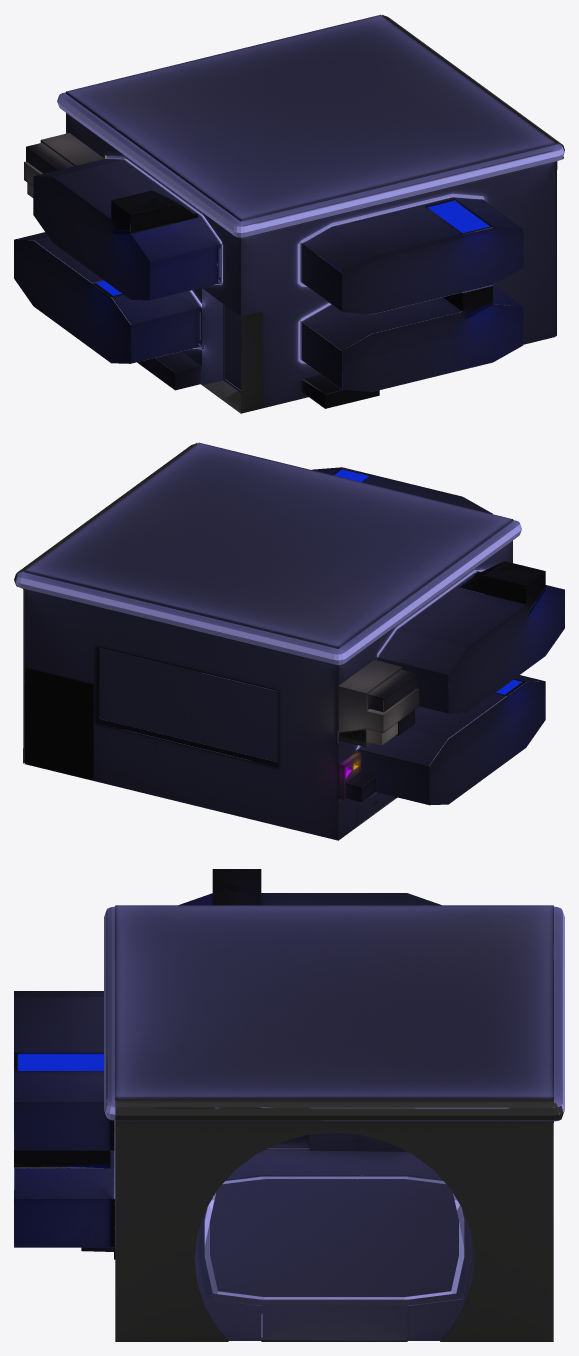
File: room_bake3.fbx
3 views of the same model, one above another, from view 1: azimuth 30°, elevation 25°; view 2: azimuth 150°, elevation 25°; view 3: azimuth 270°, elevation 25° (orthographic). The views are drawn at different scales.
Parts seen in each view (by area): view 1: Cuccette; view 2: Cuccette; view 3: Cuccette.
Boxes of the visible parts, <box> form: Cuccette: <box>14,14,564,413</box>; Cuccette: <box>14,442,564,840</box>; Cuccette: <box>14,869,564,1341</box>.
Bounding box in the file's own units: 14.31 × 7.46 × 13.78.
Materials: 10 (10 with a texture image).
